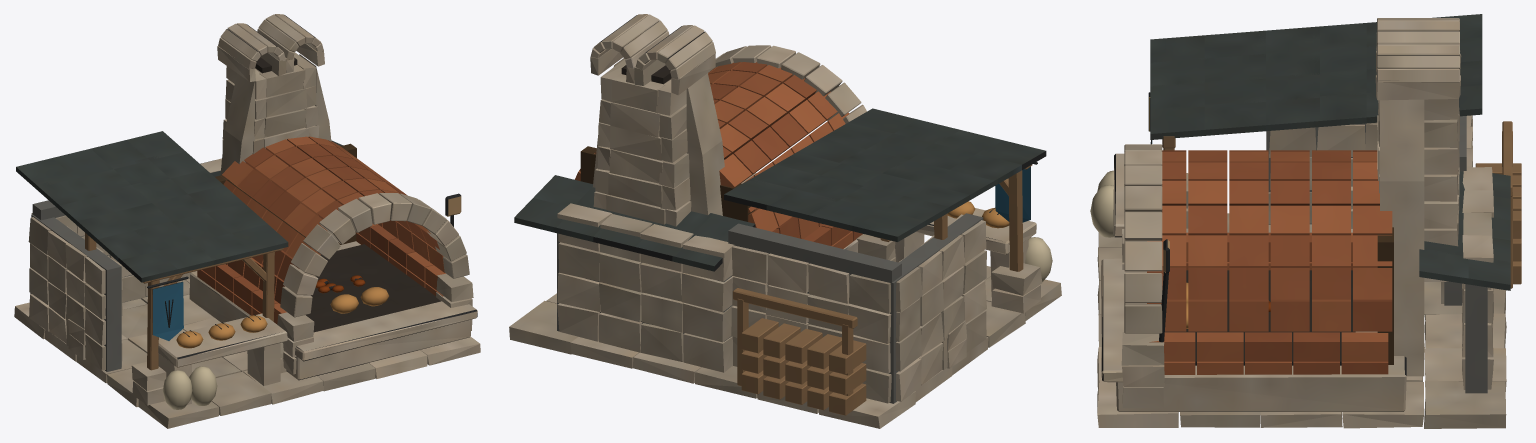
The model's file is astra_village_oven_r2.gltf.
3 renders of one model, left to right at view 1: azimuth 30°, elevation 25°; view 2: azimuth 150°, elevation 25°; view 3: azimuth 270°, elevation 25°, orthographic. The views are drawn at different scales.
Visible parts, largest first — view 1: AR_VillageOvenR2_Baked; view 2: AR_VillageOvenR2_Baked; view 3: AR_VillageOvenR2_Baked.
Part boxes in pixels (left/top/right/bottom): AR_VillageOvenR2_Baked: left=14, top=14, right=480, bottom=428; AR_VillageOvenR2_Baked: left=509, top=14, right=1061, bottom=428; AR_VillageOvenR2_Baked: left=1090, top=14, right=1521, bottom=428.
Bounding box in the file's own units: 6.69 × 5.04 × 5.81.
1 material, 1 textured.
